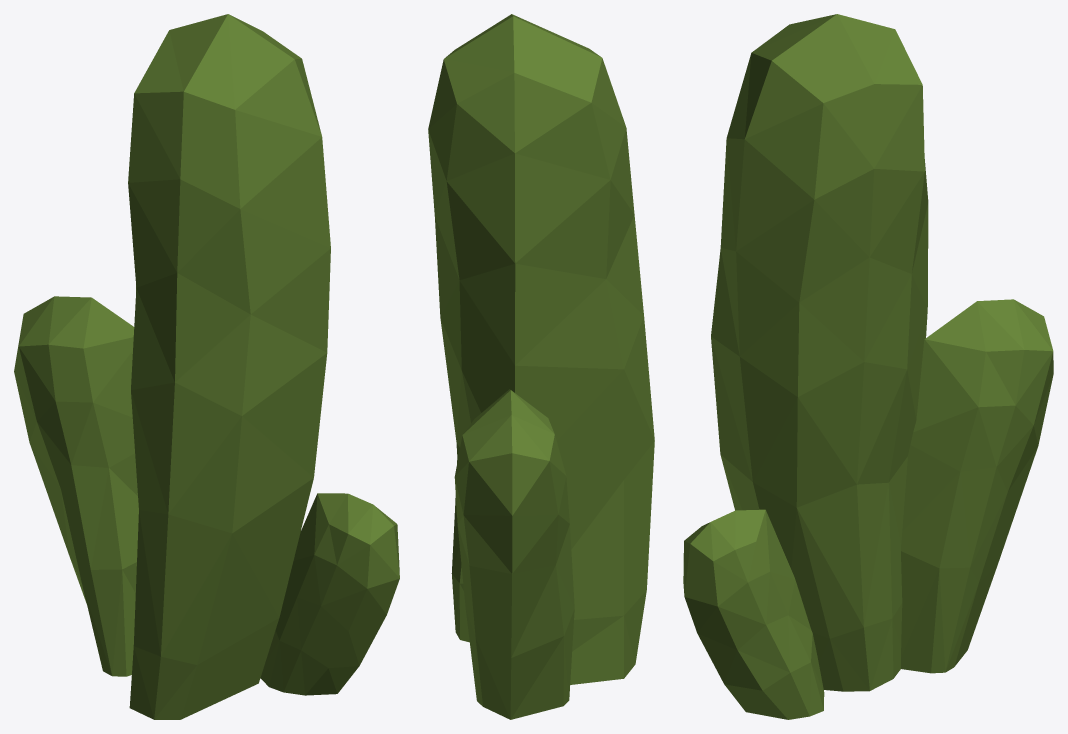
File: Cactu_1.fbx
3 views of the same model, side by side, from view 1: azimuth 30°, elevation 25°; view 2: azimuth 150°, elevation 25°; view 3: azimuth 270°, elevation 25° (orthographic). The views are drawn at different scales.
Parts seen in each view (by area): view 1: 仙人掌1.001; view 2: 仙人掌1.001; view 3: 仙人掌1.001.
Part boxes in pixels (x1,y1,x2,y2): 仙人掌1.001: [14, 14, 399, 719]; 仙人掌1.001: [428, 14, 654, 719]; 仙人掌1.001: [683, 14, 1053, 719].
Bounding box in the file's own units: 78.1 × 210 × 106.
